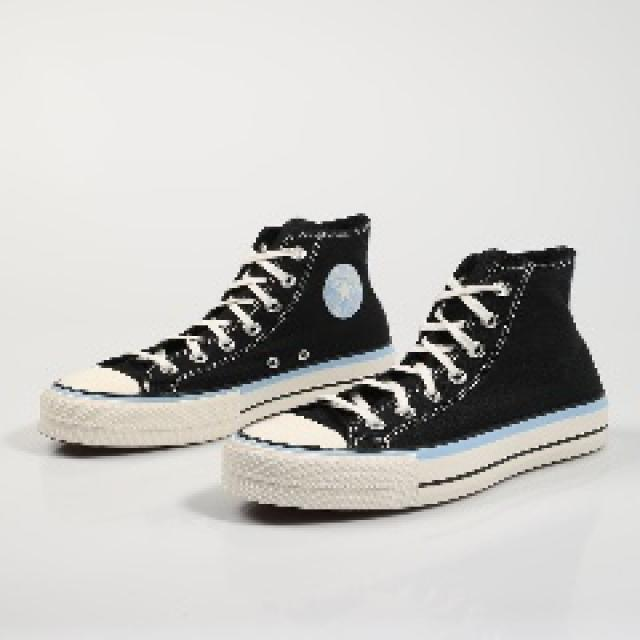shoes: (228, 247, 616, 512), (16, 201, 393, 462)
